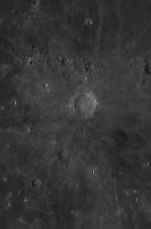crater: (53, 61, 120, 150), (17, 157, 64, 210)
